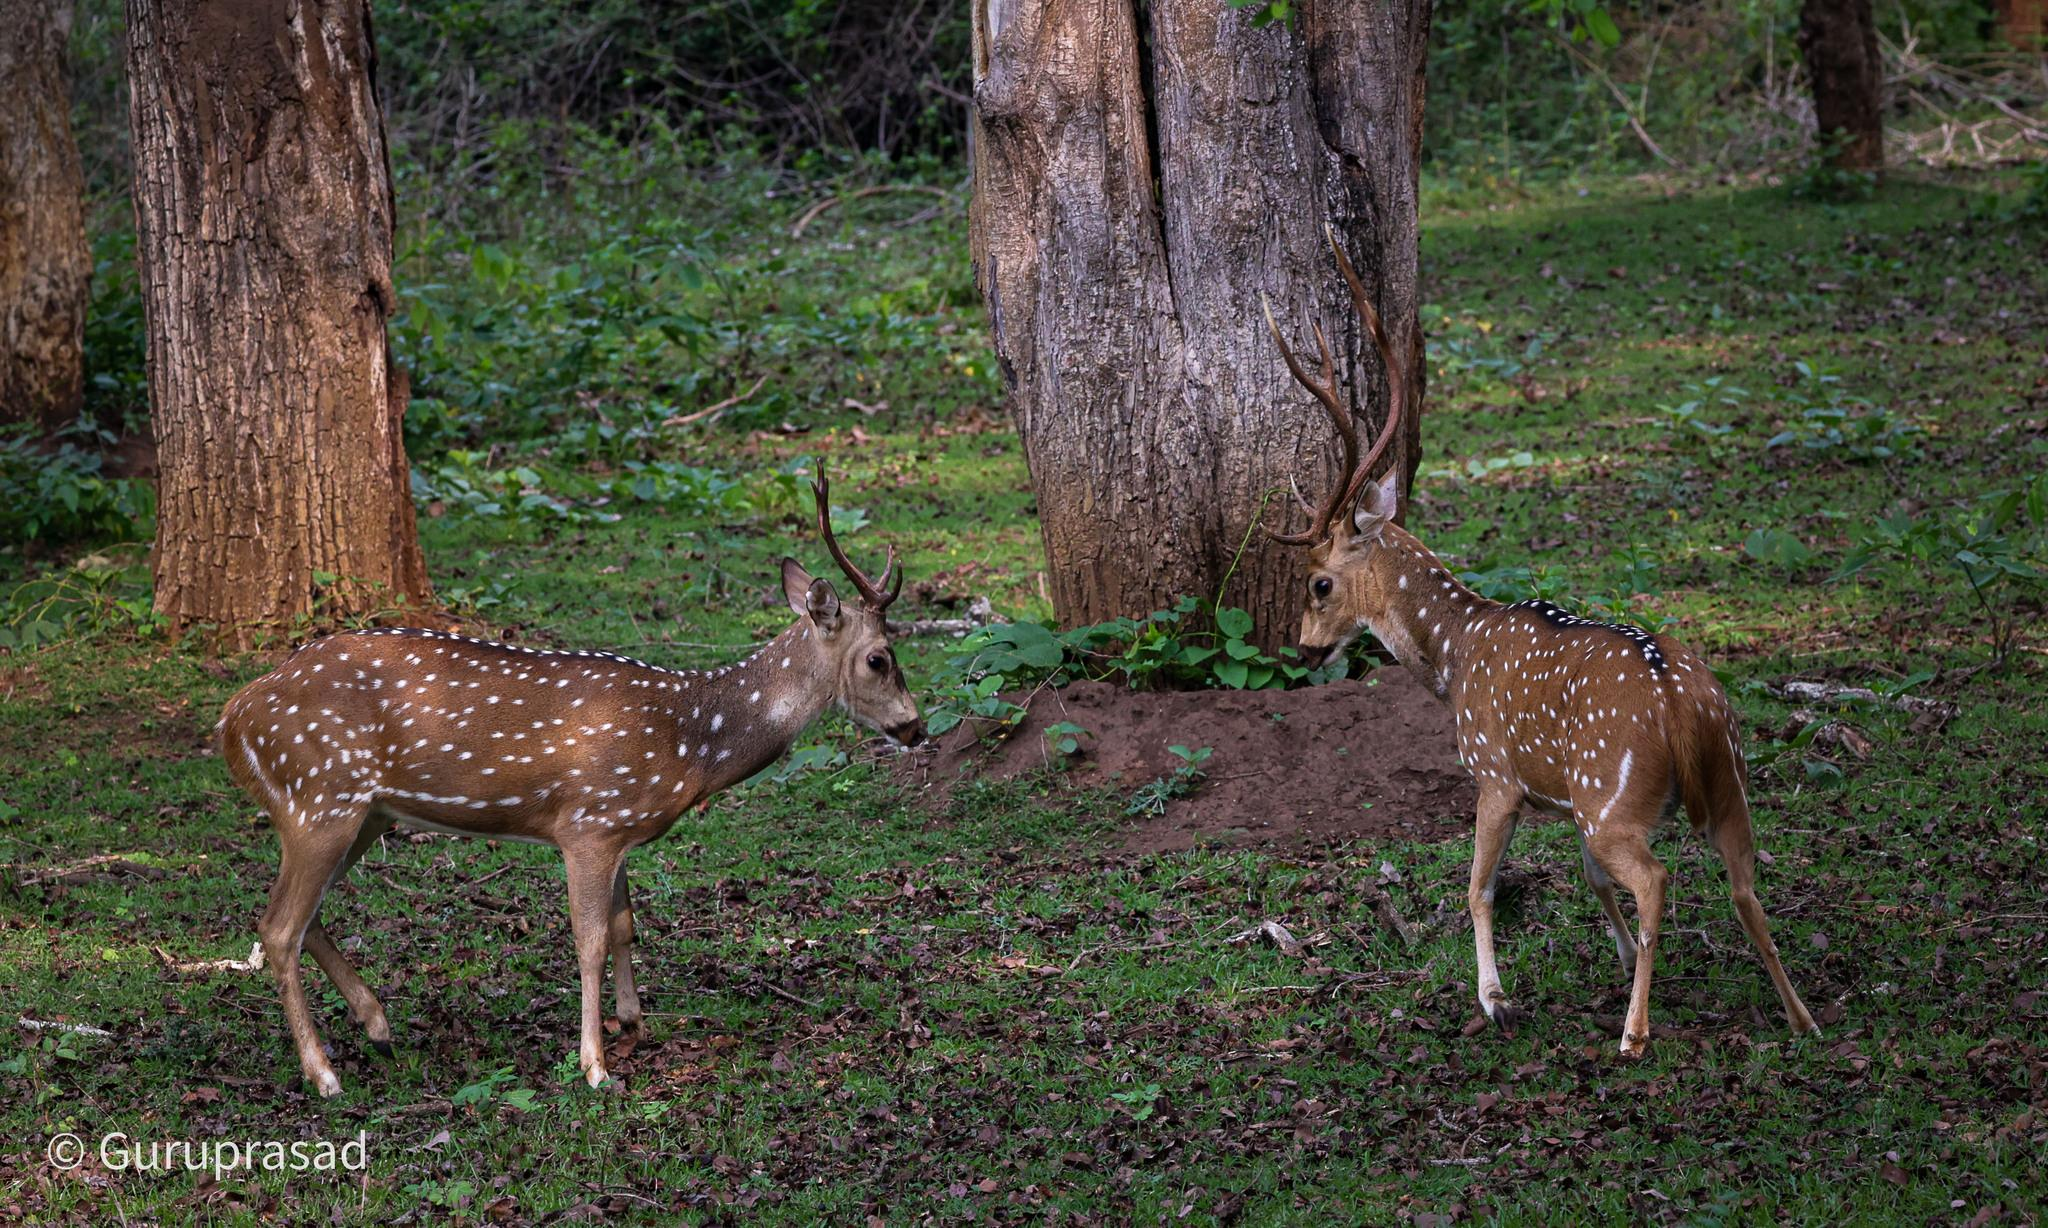Deer: (1266, 221, 1818, 1055), (216, 474, 924, 1095)
